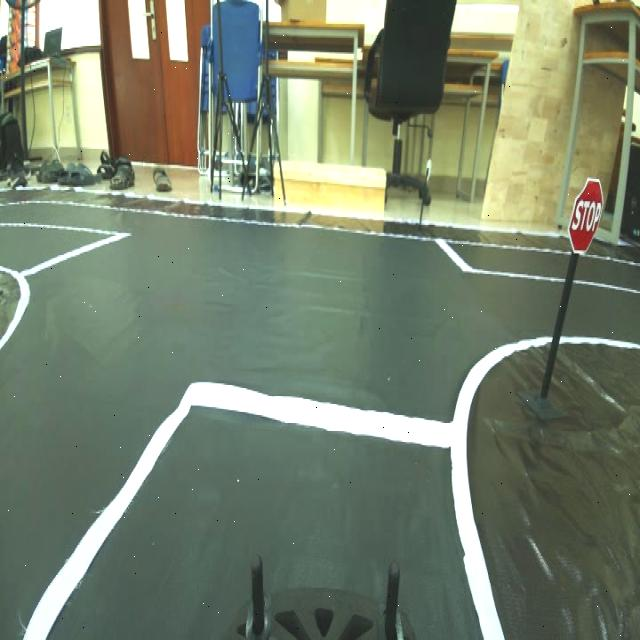stop: (568, 172, 608, 260)
